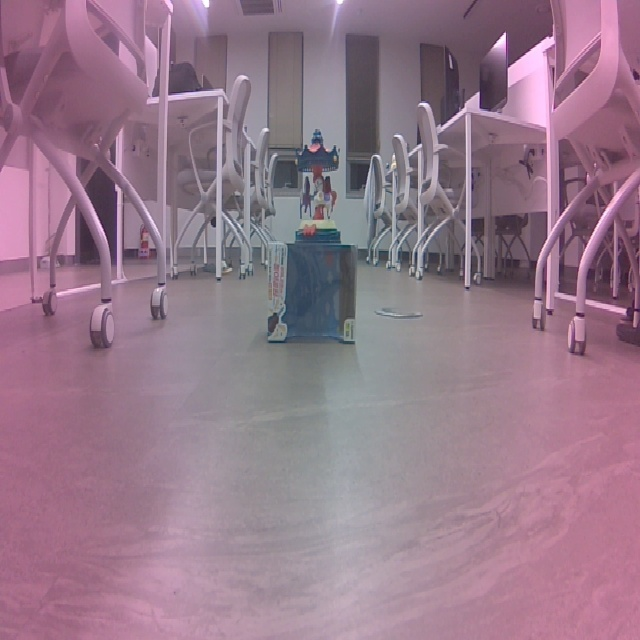목적지: (362, 115, 427, 227)
